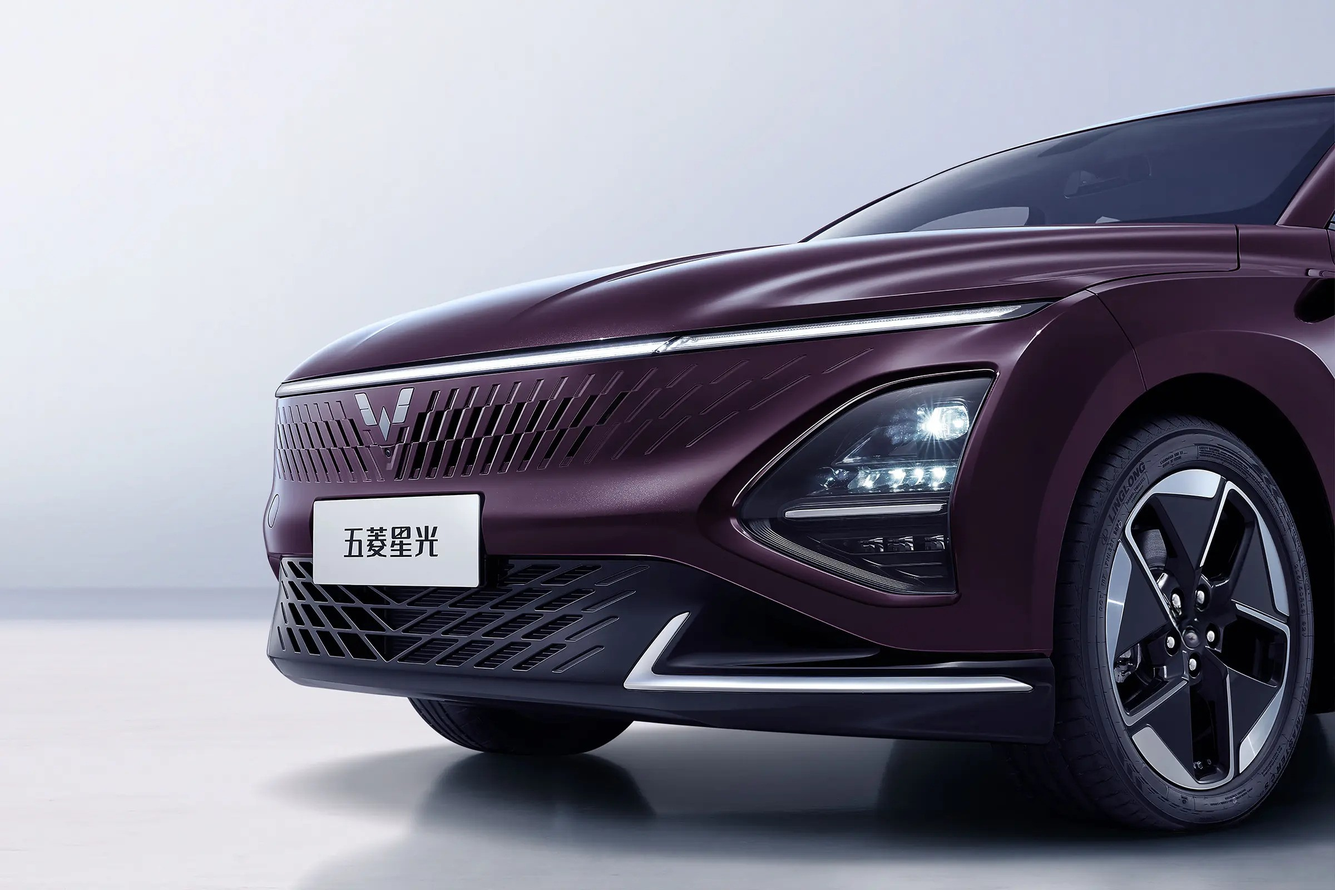SGMW: (355, 388, 413, 441)
